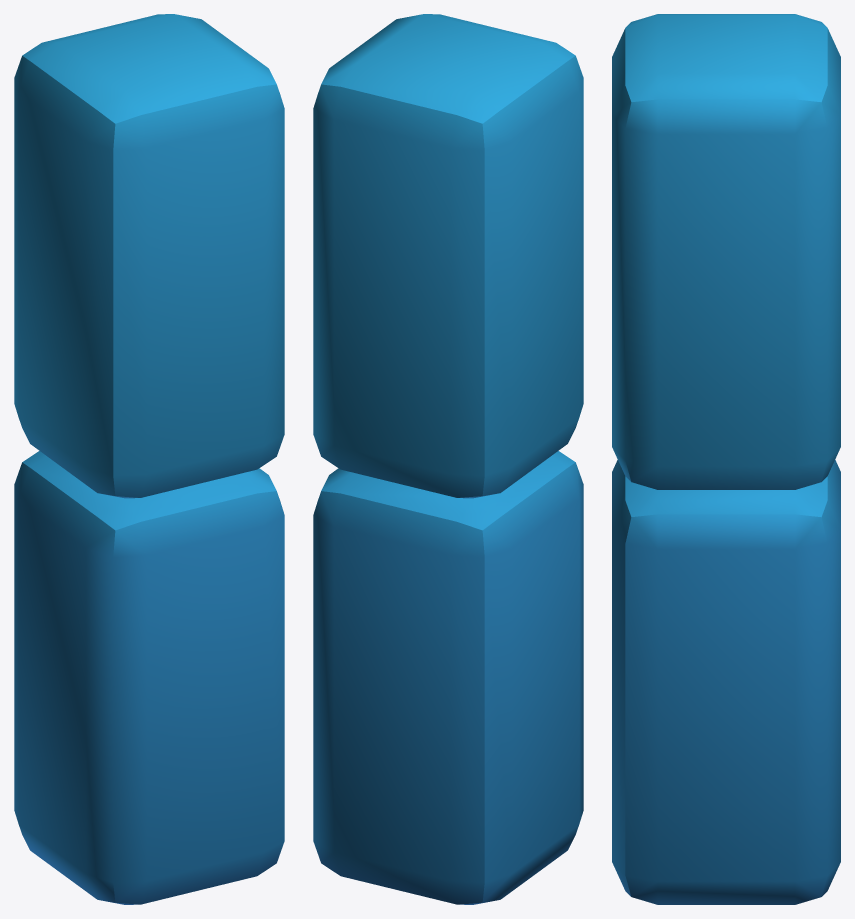
Rendered from barrier_1x1x4_blue.glb.
3 views of the same model, side by side, from view 1: azimuth 30°, elevation 25°; view 2: azimuth 150°, elevation 25°; view 3: azimuth 270°, elevation 25° (orthographic). The views are drawn at different scales.
Parts seen in each view (by area): view 1: barrier_1x1x4_blue; view 2: barrier_1x1x4_blue; view 3: barrier_1x1x4_blue.
Part boxes in pixels (box(x1,y1,x2,y2)): barrier_1x1x4_blue: box(14, 14, 284, 904); barrier_1x1x4_blue: box(313, 14, 583, 904); barrier_1x1x4_blue: box(612, 14, 840, 904).
Bounding box in the file's own units: 1 × 4 × 1.
Materials: 1 (1 with a texture image).
